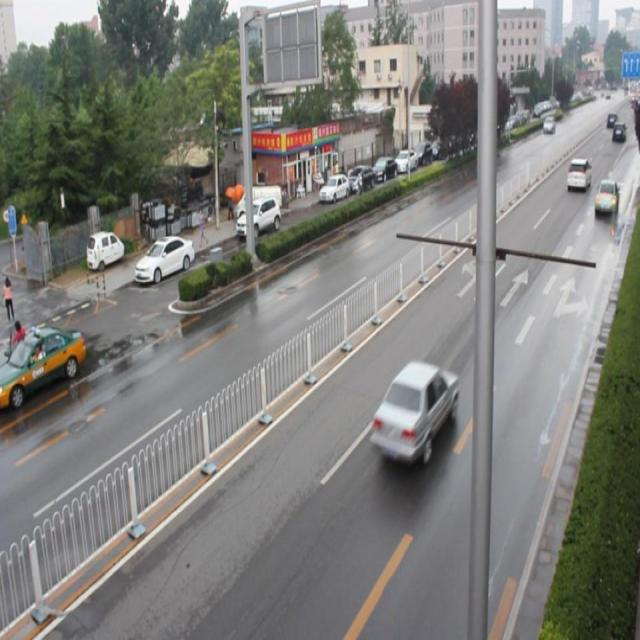car: (370, 359, 458, 468), (592, 179, 616, 216), (564, 156, 588, 191)
